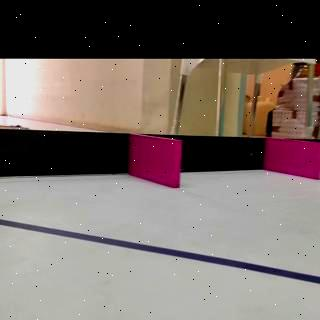xparking: (133, 139, 180, 186), (271, 144, 320, 180)
